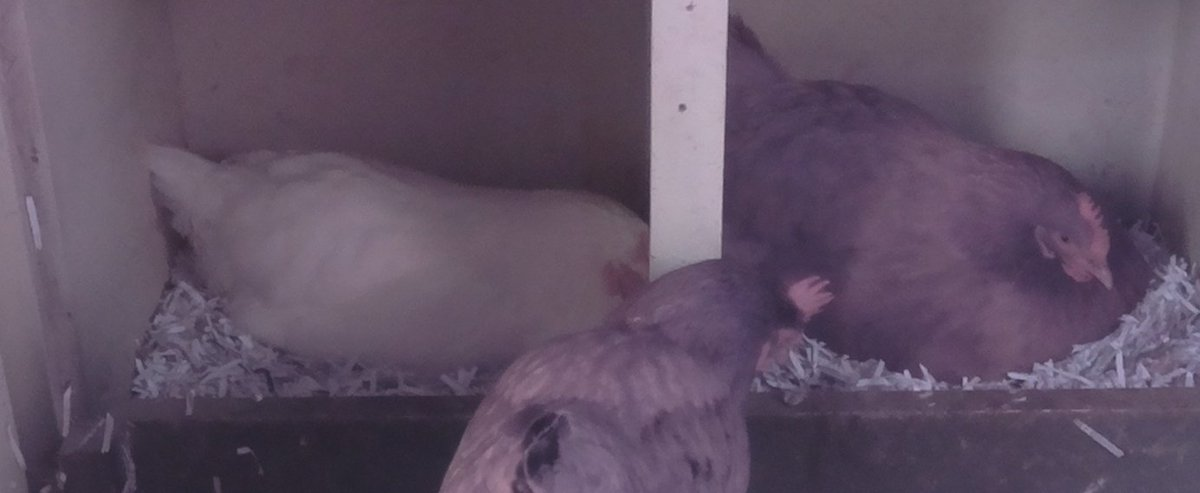hen: (730, 32, 1157, 385), (139, 138, 651, 377), (439, 258, 832, 493)
